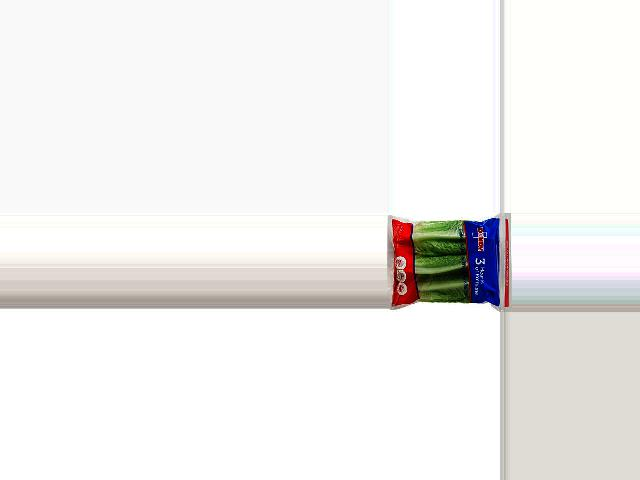lettuce: (387, 217, 502, 307)
